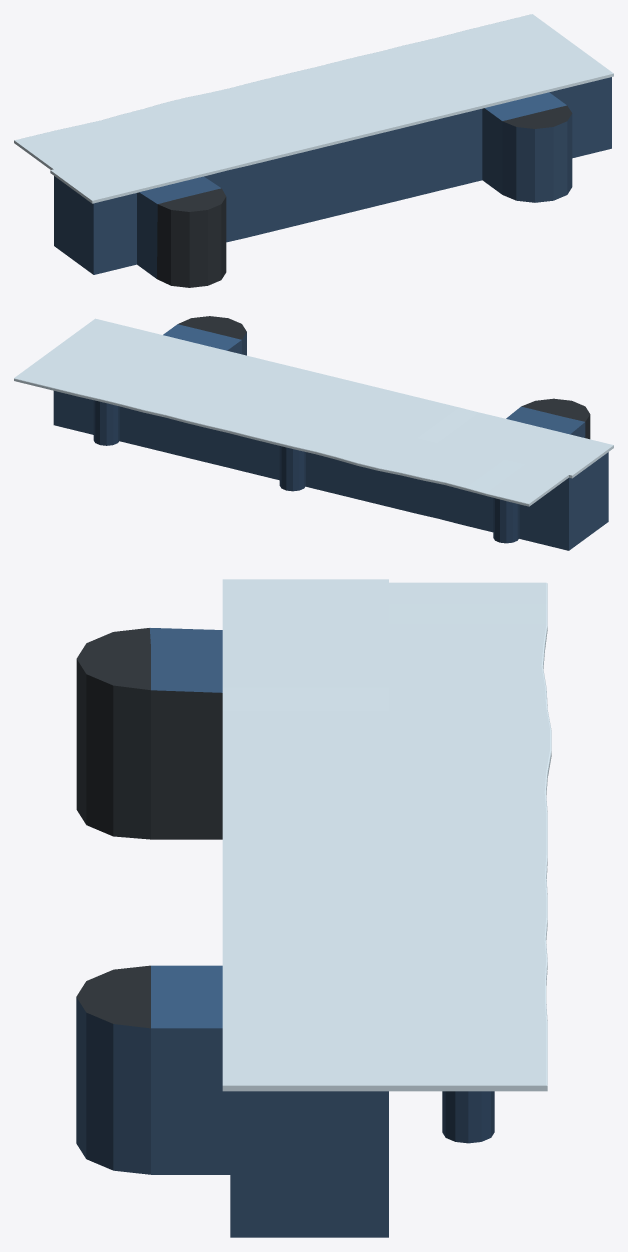
File: Dock.fbx
3 renders of one model, top to bottom at view 1: azimuth 30°, elevation 25°; view 2: azimuth 150°, elevation 25°; view 3: azimuth 270°, elevation 25°, orthographic. The views are drawn at different scales.
Parts seen in each view (by area): view 1: Dock; view 2: Dock; view 3: Dock.
Boxes of the visible parts, x1,y1,x2,y2 form: Dock: (14,14,613,287); Dock: (14,316,613,550); Dock: (76,579,551,1237).
Bounding box in the file's own units: 151 × 21.4 × 59.92.
